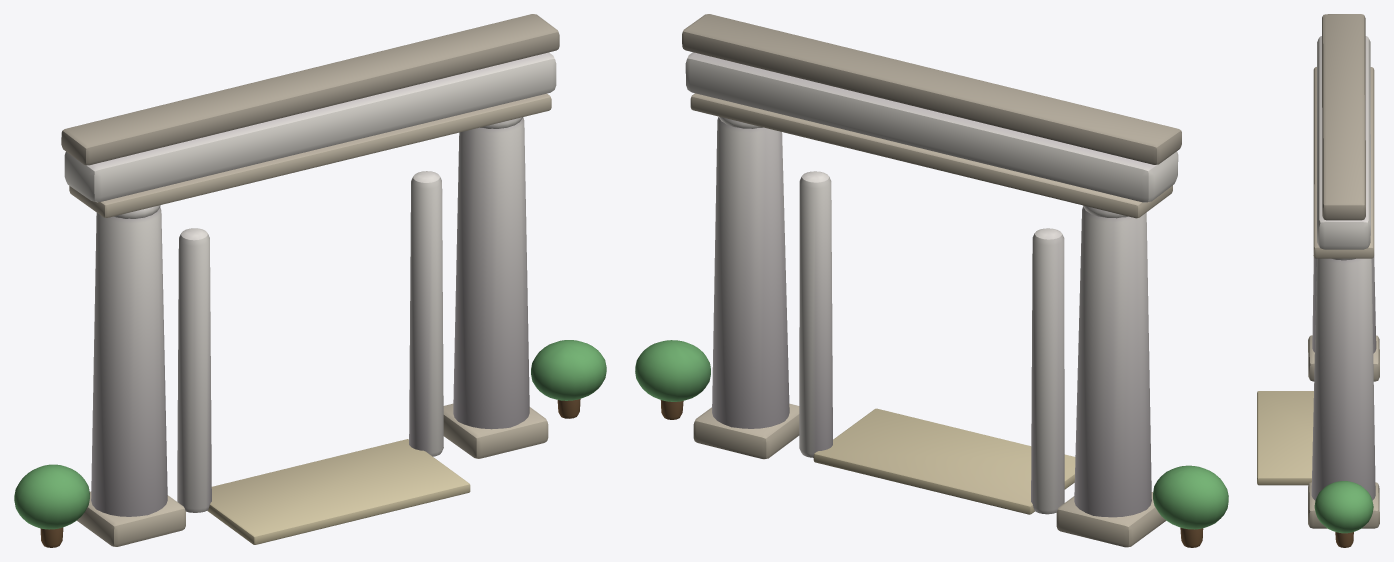
3 renders of one model, left to right at view 1: azimuth 30°, elevation 25°; view 2: azimuth 150°, elevation 25°; view 3: azimuth 270°, elevation 25°, orthographic. The views are drawn at different scales.
Visible parts, largest first — view 1: gate_11c6c7ee; view 2: gate_11c6c7ee; view 3: gate_11c6c7ee.
Part boxes in pixels (bbox=[...]): gate_11c6c7ee: bbox=[14, 14, 606, 547]; gate_11c6c7ee: bbox=[635, 14, 1228, 547]; gate_11c6c7ee: bbox=[1257, 14, 1379, 547].
Size of the model in its own units: 6.45 by 4.26 by 1.42.
